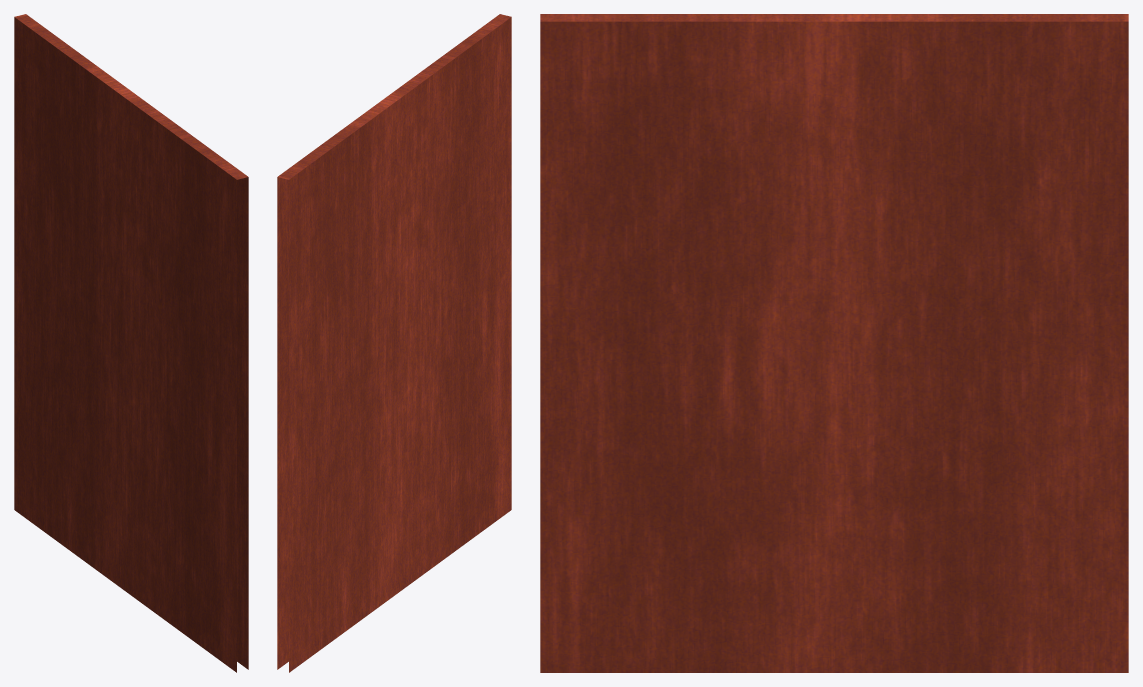
The model's file is SM_Entourage_Meeting_Wall.fbx.
3 renders of one model, left to right at view 1: azimuth 30°, elevation 25°; view 2: azimuth 150°, elevation 25°; view 3: azimuth 270°, elevation 25°, orthographic. The views are drawn at different scales.
Parts seen in each view (by area): view 1: SM_Entourage_Meeting_Wall; view 2: SM_Entourage_Meeting_Wall; view 3: SM_Entourage_Meeting_Wall.
Part boxes in pixels (x1=…): SM_Entourage_Meeting_Wall: x1=14, y1=14, x2=248, y2=672; SM_Entourage_Meeting_Wall: x1=277, y1=14, x2=511, y2=672; SM_Entourage_Meeting_Wall: x1=540, y1=14, x2=1128, y2=672.
Bounding box in the file's own units: 7.11 × 233 × 285.
1 material, 1 textured.
